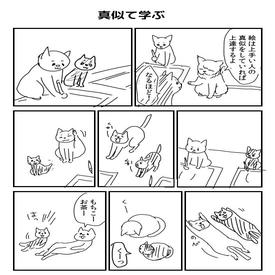bubble: (223, 28, 261, 84), (74, 192, 105, 226), (136, 65, 159, 104), (111, 242, 131, 266)
